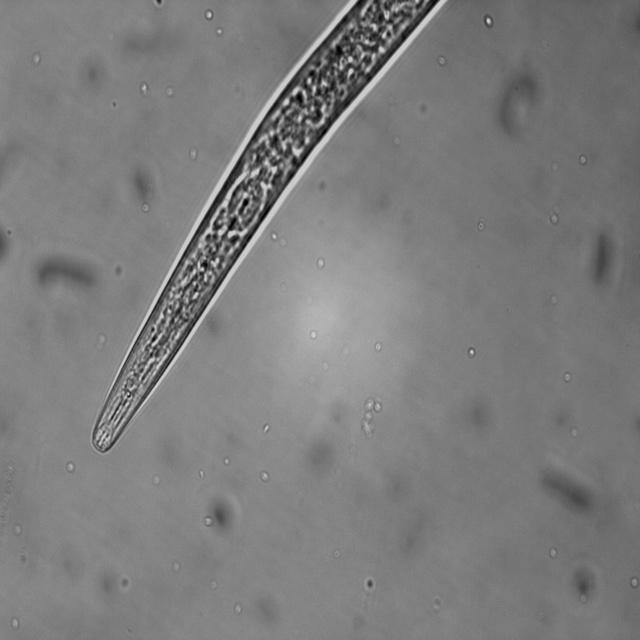Meloidogyne: (85, 2, 472, 459)
